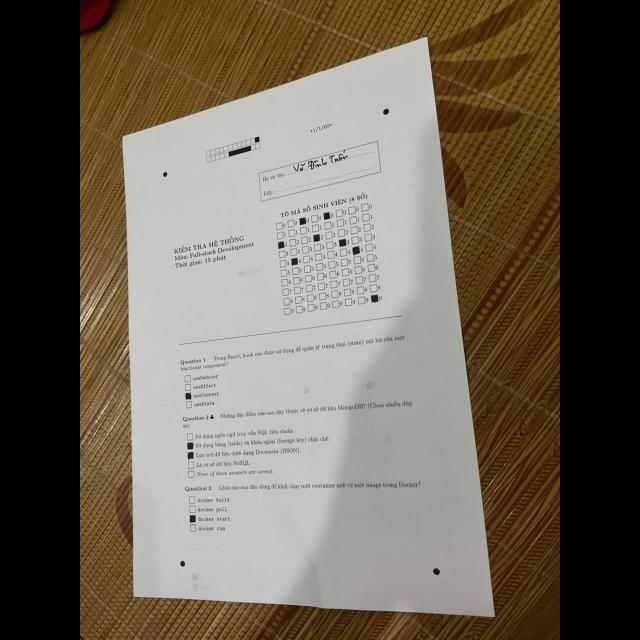Markers: (432, 568, 440, 576), (383, 108, 389, 115), (162, 171, 168, 177), (180, 561, 186, 567)
